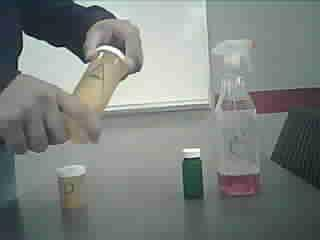Bottle A: (52, 34, 141, 149)
Bottle B: (55, 166, 94, 218)
Bottle C: (177, 144, 206, 203)
hazard: (210, 34, 274, 201)
